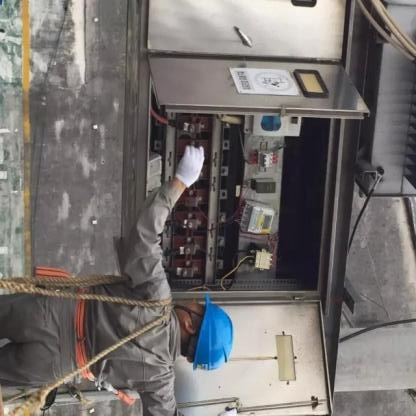blue: (192, 288, 235, 381)
